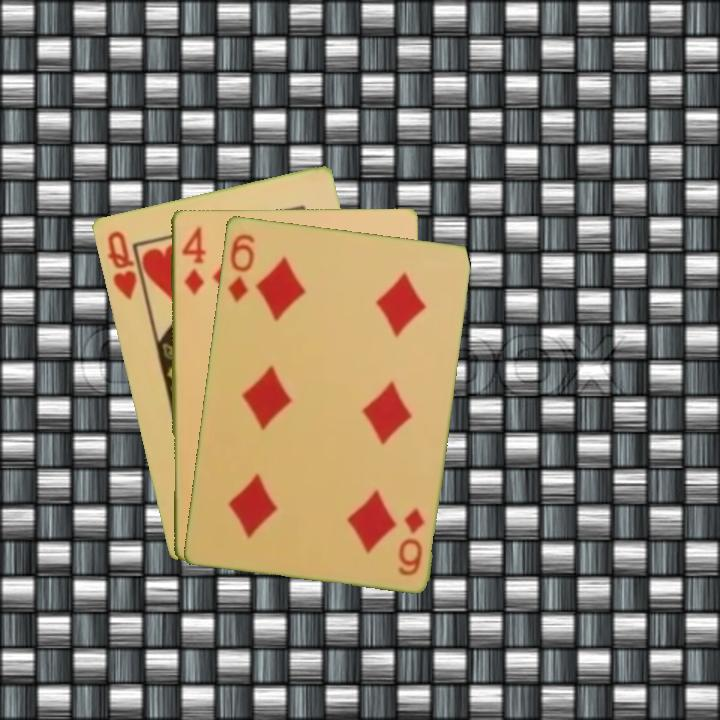4d: (178, 222, 208, 299)
6d: (393, 504, 427, 578), (224, 229, 257, 304)
Qh: (103, 227, 140, 302)
